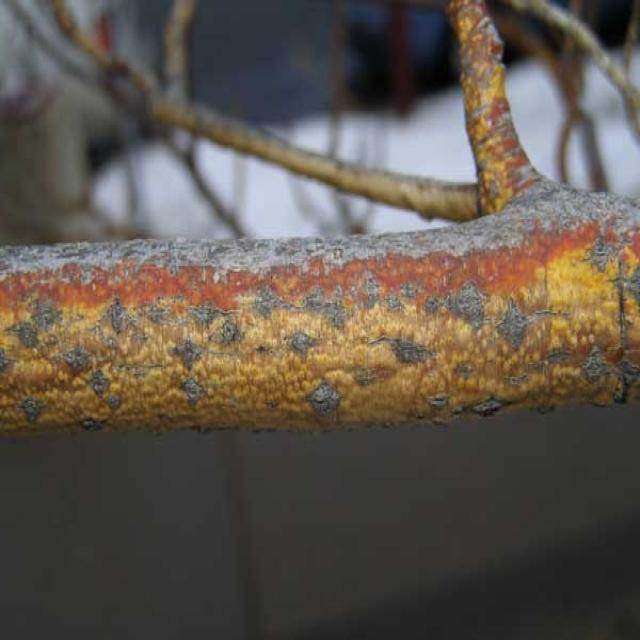Golden_canker: (0, 158, 640, 470)
